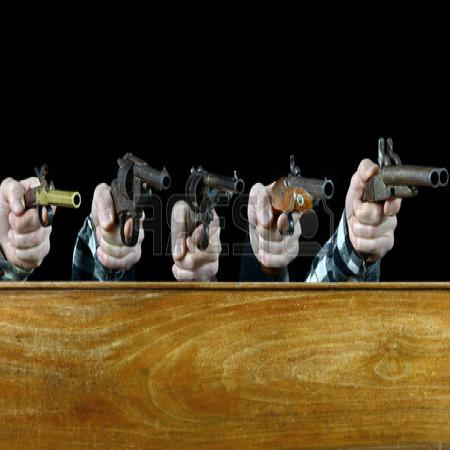Pistol: (103, 148, 174, 254), (185, 158, 246, 252)
